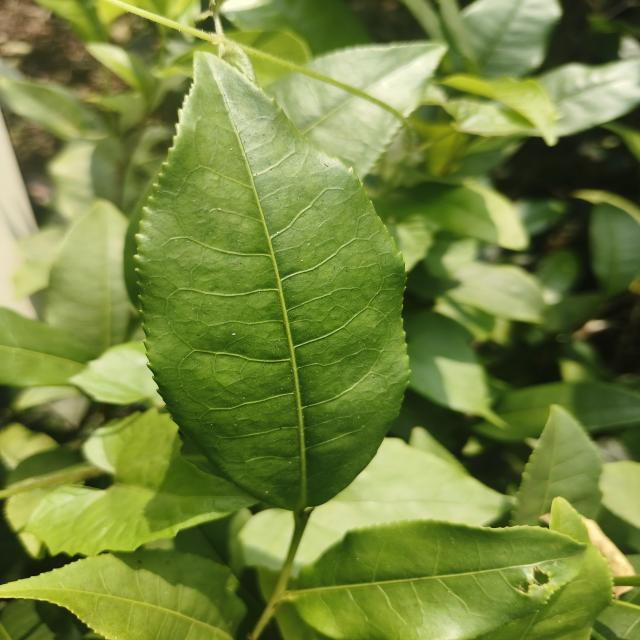Leaf: (137, 53, 408, 511), (290, 520, 586, 640), (0, 550, 246, 640), (474, 500, 612, 640), (267, 73, 401, 180), (45, 200, 132, 360), (511, 405, 602, 526), (306, 41, 445, 117), (475, 382, 640, 442), (392, 184, 528, 250), (441, 74, 559, 145), (222, 0, 371, 55), (538, 58, 640, 136), (461, 0, 561, 78), (0, 308, 89, 387), (0, 76, 108, 139), (446, 262, 544, 322), (589, 203, 640, 297), (86, 42, 159, 103)
